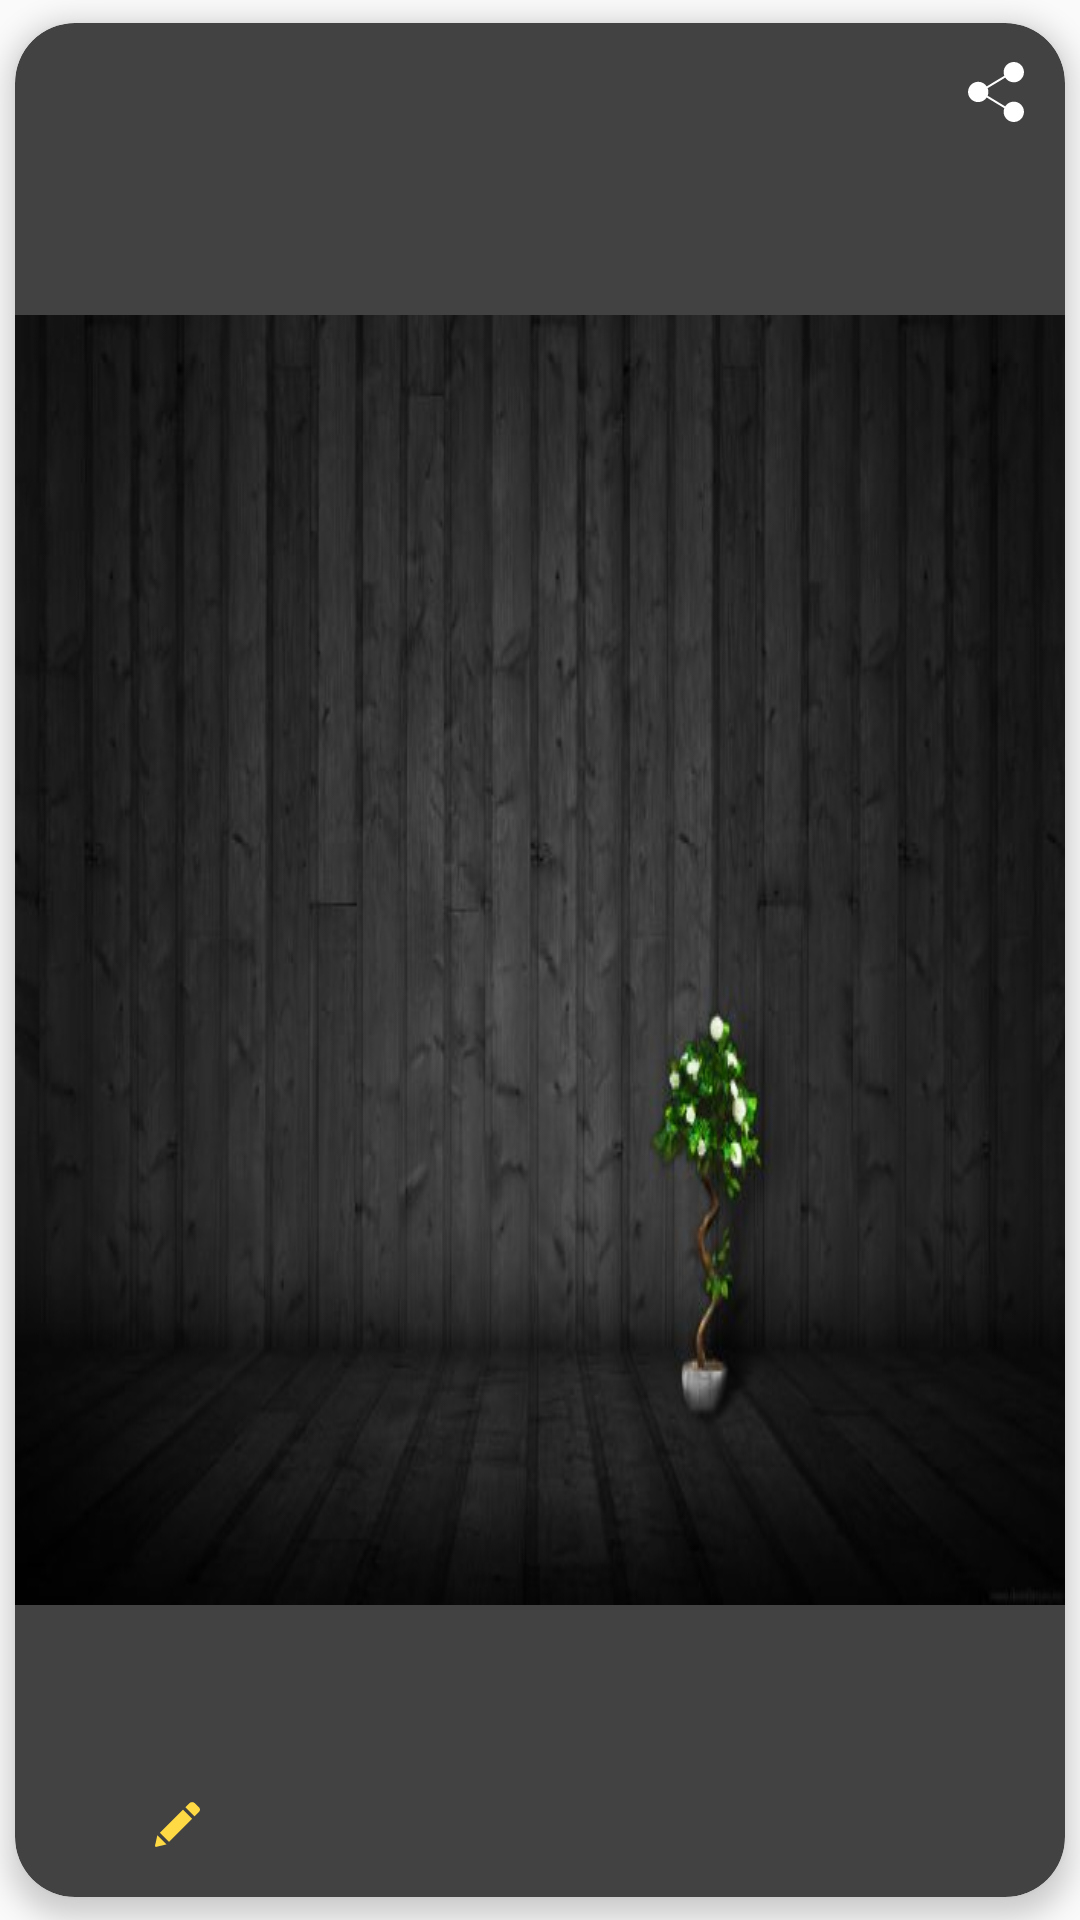

Locate icon controls on the screen. Image size 1080*1920, boxes as (x1, y1, x2, y2).
edit pencil: (155, 1802, 200, 1847)
share: (968, 62, 1024, 122)
